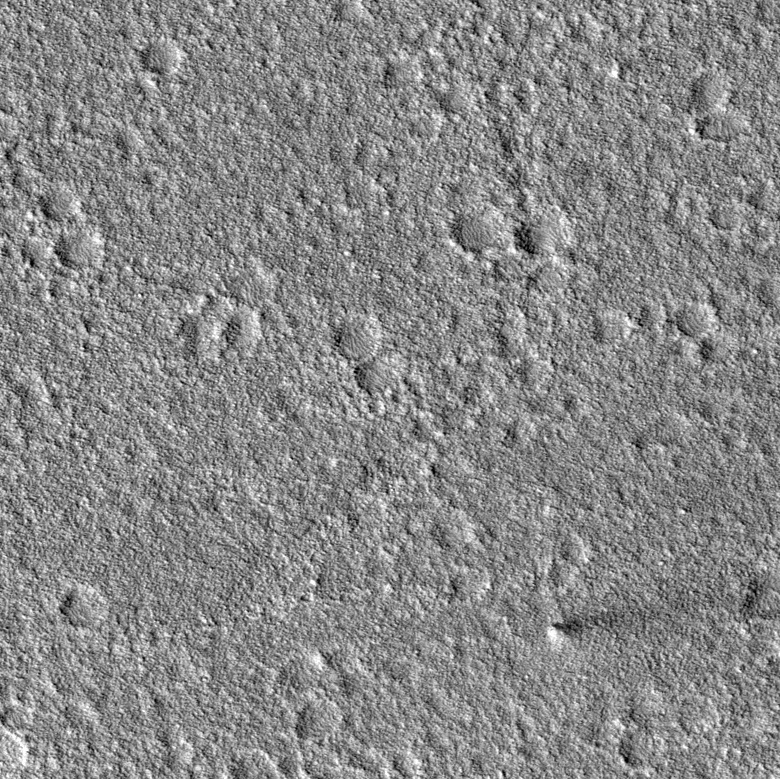dust_devil: (544, 610, 622, 645)
